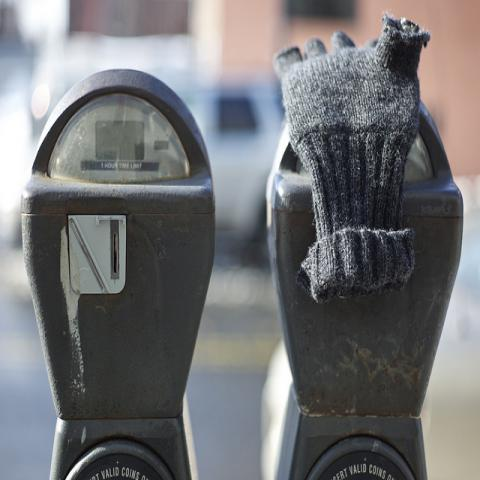car: (170, 79, 287, 273)
